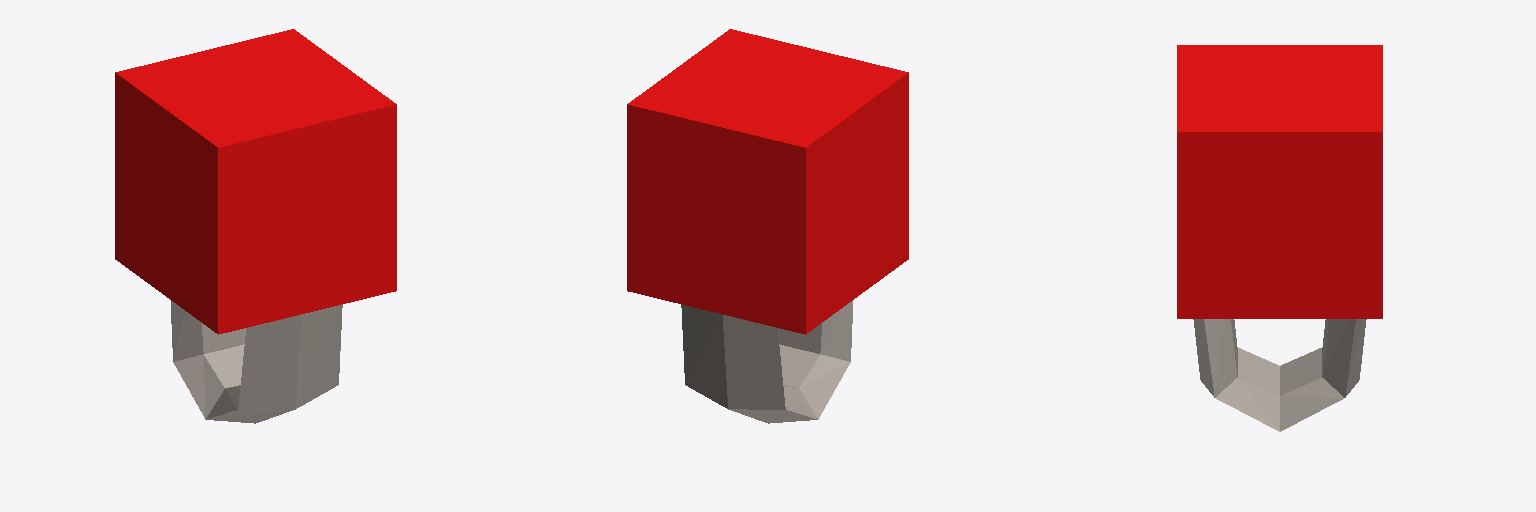
3 views of the same model, side by side, from view 1: azimuth 30°, elevation 25°; view 2: azimuth 150°, elevation 25°; view 3: azimuth 270°, elevation 25° (orthographic).
Parts seen in each view (by area): view 1: LOCK_node00_face00; view 2: LOCK_node00_face00; view 3: LOCK_node00_face00.
Part boxes in pixels (left/top/right/bottom): LOCK_node00_face00: left=115, top=29, right=396, bottom=423; LOCK_node00_face00: left=627, top=29, right=908, bottom=423; LOCK_node00_face00: left=1177, top=45, right=1382, bottom=431.
Size of the model in its own units: 500 by 897 by 500.
1 materials, 1 textured.